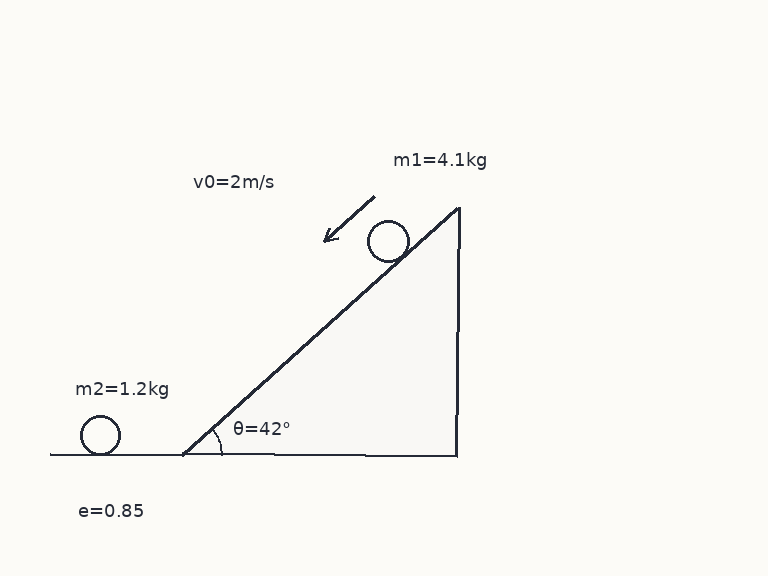ball: (365, 218, 411, 264), (78, 413, 122, 457)
ramp: (180, 205, 460, 457)
